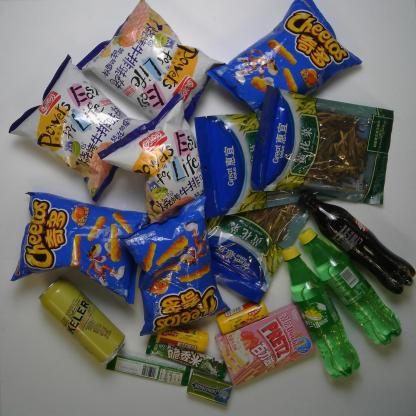Alcohol: (36, 274, 127, 366)
Candy: (215, 296, 272, 336), (154, 322, 212, 354)
Chocolate: (140, 331, 235, 383), (104, 350, 195, 391)
Dessert: (214, 302, 316, 386)
Dried Food: (189, 152, 321, 304), (251, 82, 394, 206), (191, 110, 350, 219)
Drink: (298, 187, 416, 297), (298, 224, 401, 346), (281, 243, 362, 380)
Gum: (185, 367, 234, 406)
Puffed Food: (7, 54, 157, 202), (74, 0, 228, 132), (206, 0, 364, 124), (95, 92, 227, 230), (116, 192, 231, 337), (9, 192, 151, 306)
